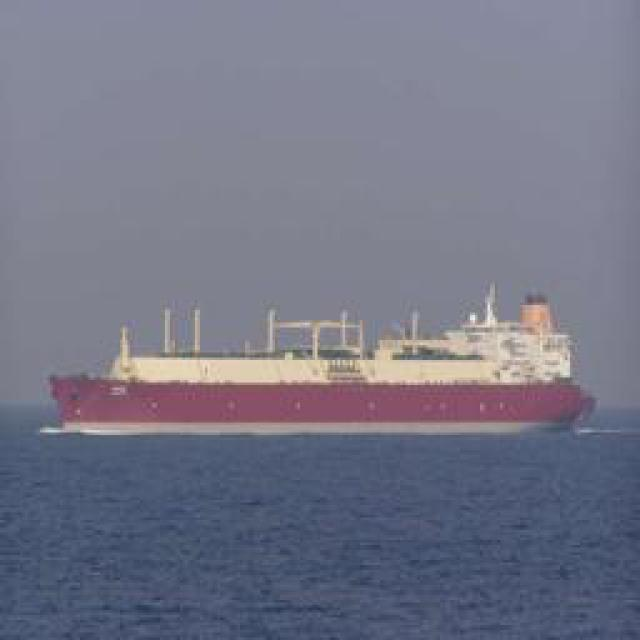Ship: (55, 288, 600, 436)
